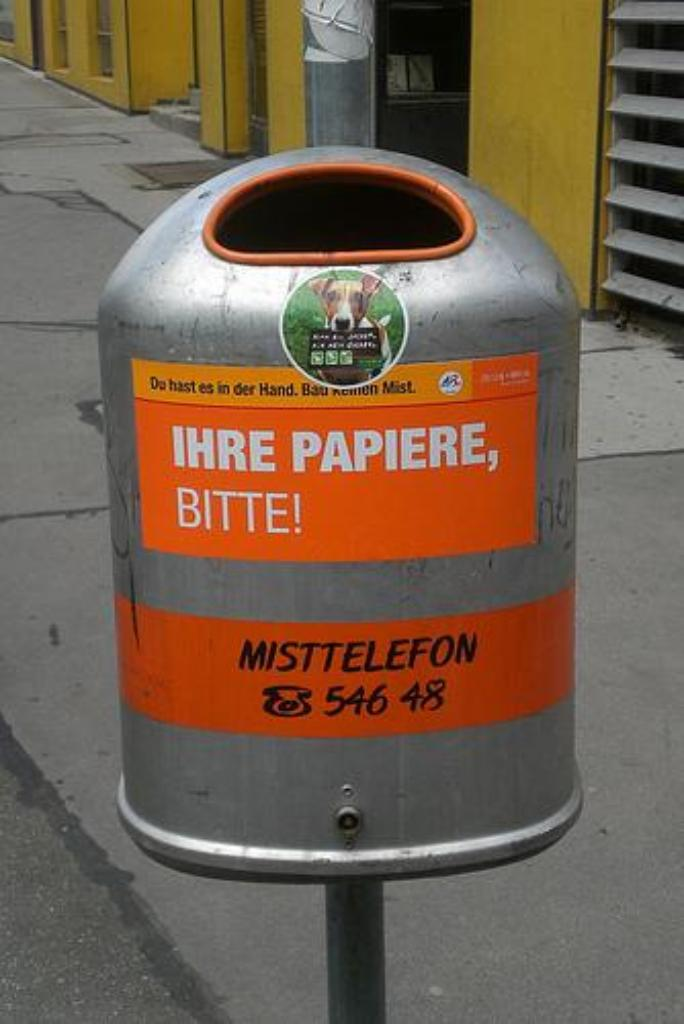dustbin: (63, 162, 636, 916)
